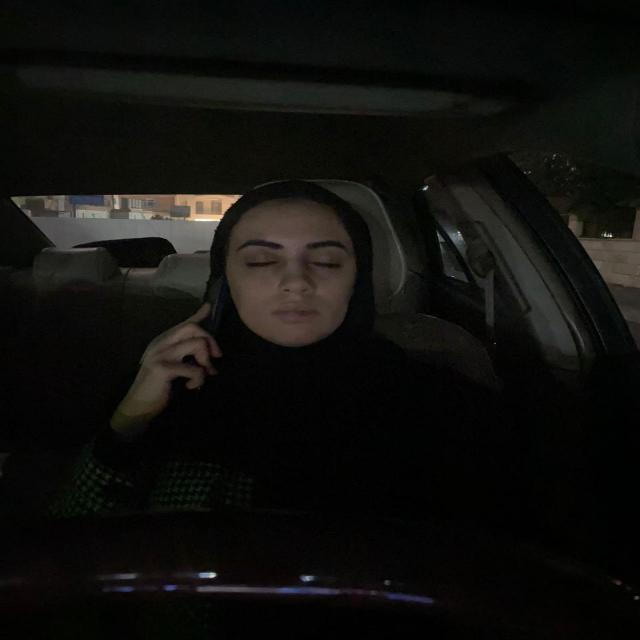mobile: (185, 252, 231, 378)
person: (211, 180, 400, 377)
